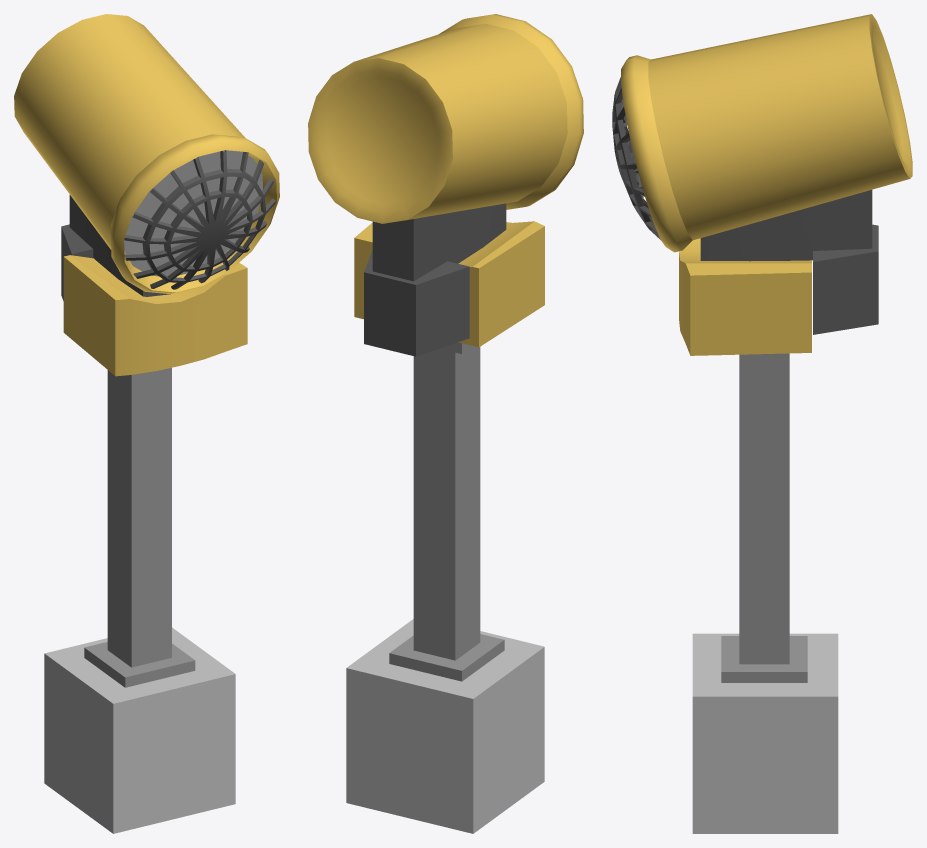
Rendered from Snowgun.glb.
3 views of the same model, side by side, from view 1: azimuth 30°, elevation 25°; view 2: azimuth 150°, elevation 25°; view 3: azimuth 270°, elevation 25° (orthographic). The views are drawn at different scales.
Visible parts, largest first — view 1: Cylinder004, Object001, Box006, Box009; view 2: Cylinder004, Object001, Box006, Box009; view 3: Cylinder004, Object001, Box006, Box009.
Part boxes in pixels (x1,y1,x2,y2): Cylinder004: (14, 14, 279, 376); Object001: (44, 150, 262, 833); Box006: (84, 367, 195, 687); Box009: (61, 150, 275, 300); Cylinder004: (308, 14, 583, 347); Object001: (346, 619, 544, 833); Box006: (389, 342, 504, 681); Box009: (364, 203, 506, 356); Cylinder004: (621, 14, 912, 355); Object001: (692, 633, 838, 833); Box006: (721, 353, 807, 682); Box009: (612, 77, 878, 334).
Bounding box in the file's own units: 1.45 × 6.19 × 2.16.
